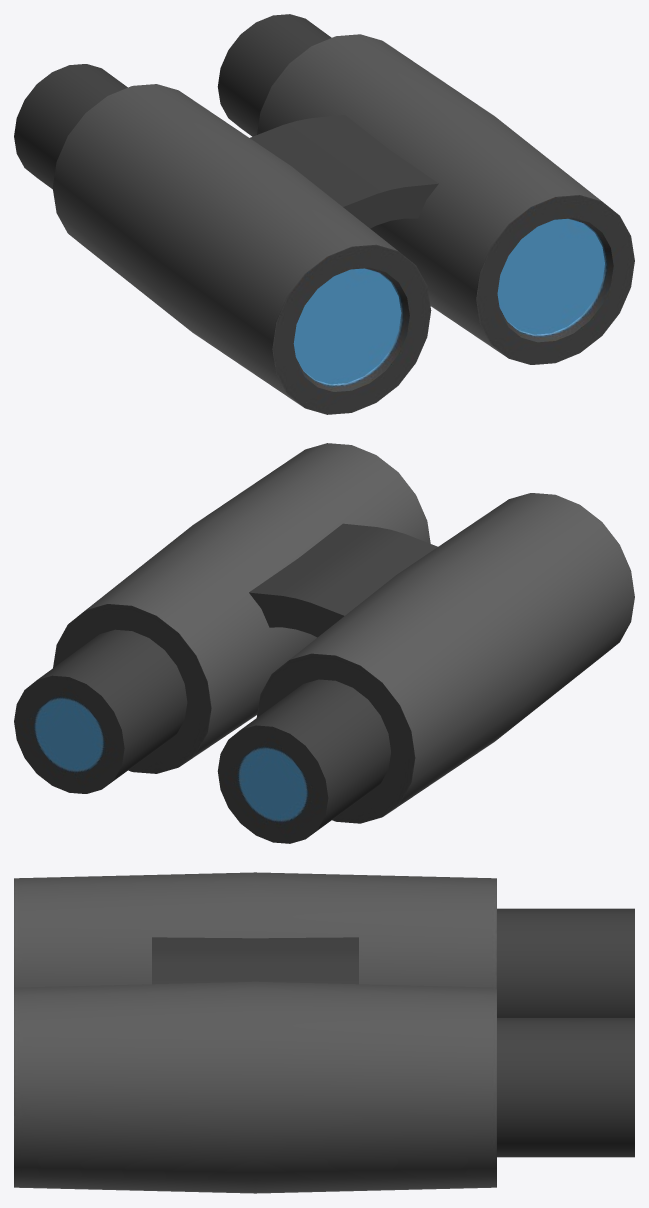
File: Binocular.fbx
3 renders of one model, top to bottom at view 1: azimuth 30°, elevation 25°; view 2: azimuth 150°, elevation 25°; view 3: azimuth 270°, elevation 25°, orthographic. The views are drawn at different scales.
Parts seen in each view (by area): view 1: Binocular_geo; view 2: Binocular_geo; view 3: Binocular_geo.
Boxes of the visible parts, x1,y1,x2,y2 form: Binocular_geo: [14, 14, 634, 414]; Binocular_geo: [14, 443, 634, 843]; Binocular_geo: [14, 872, 634, 1193].
Size of the model in its own units: 4.68 by 2.12 by 6.16.
